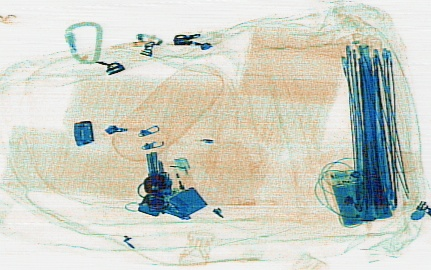lighter: (168, 155, 203, 211)
powerbank: (321, 162, 395, 225)
